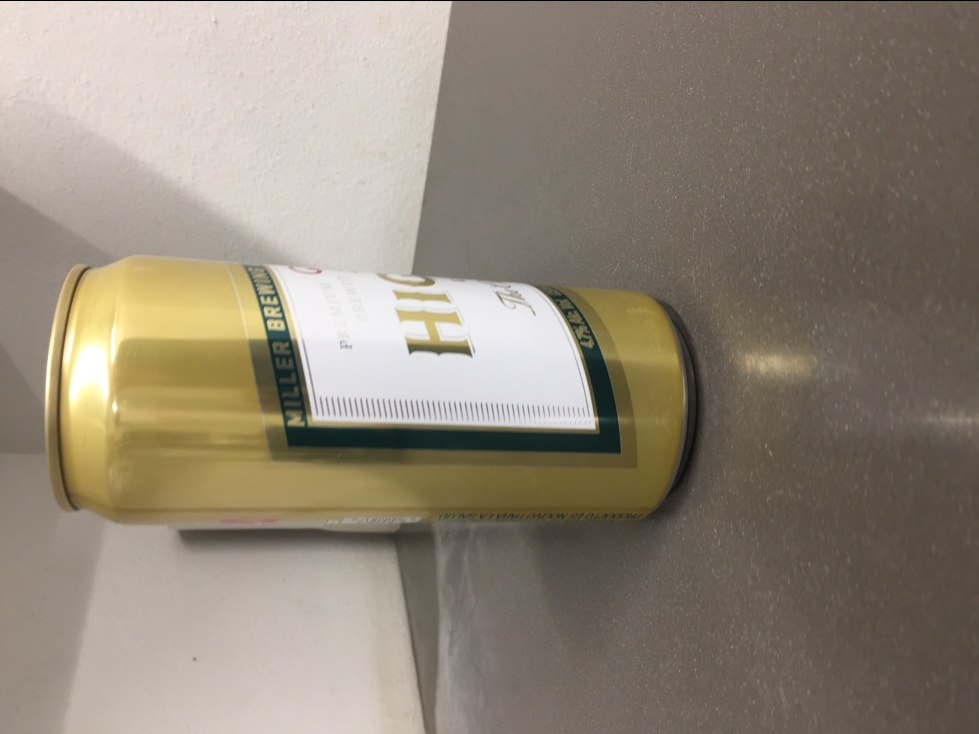miller: (40, 245, 700, 524)
